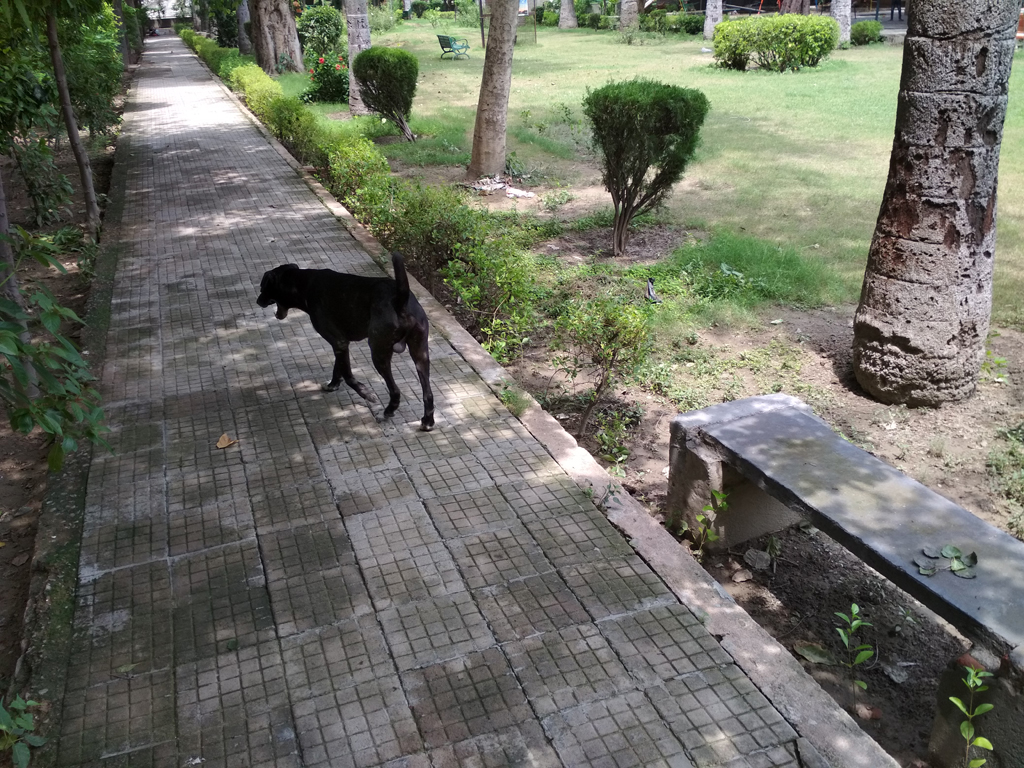dog: (256, 250, 429, 432)
